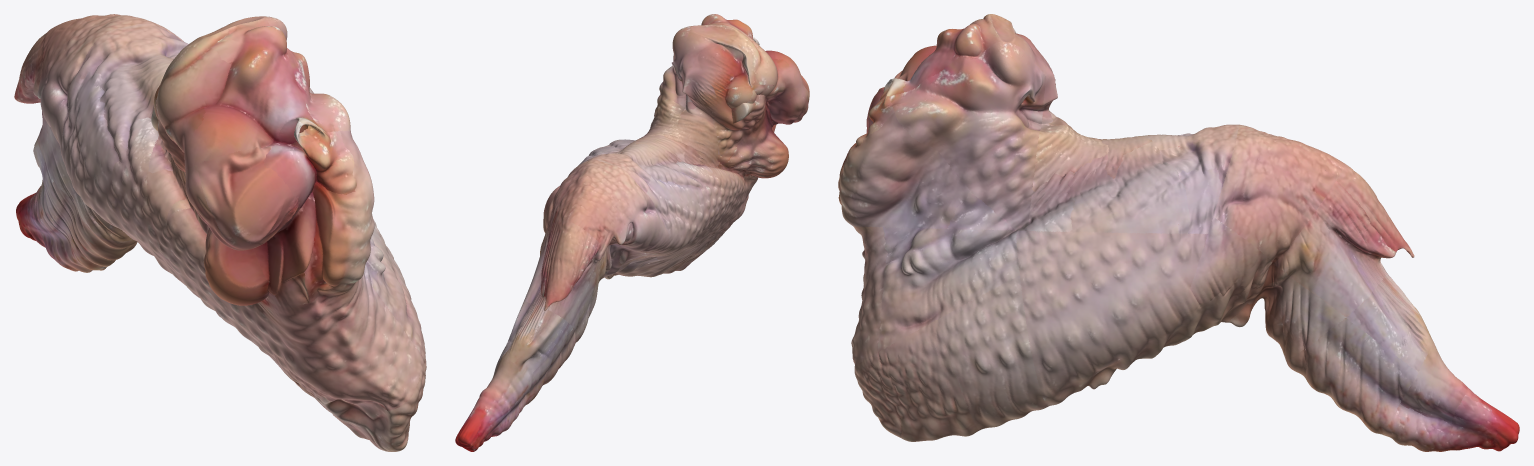
Rendered from wing.glb.
3 views of the same model, side by side, from view 1: azimuth 30°, elevation 25°; view 2: azimuth 150°, elevation 25°; view 3: azimuth 270°, elevation 25° (orthographic). The views are drawn at different scales.
Visible parts, largest first — view 1: geometry_0; view 2: geometry_0; view 3: geometry_0.
Boxes of the visible parts, x1,y1,x2,y2 form: geometry_0: [14, 14, 426, 451]; geometry_0: [455, 14, 809, 451]; geometry_0: [838, 14, 1519, 451].
Bounding box in the file's own units: 0.3815 × 0.6425 × 1.
1 material, 1 textured.
